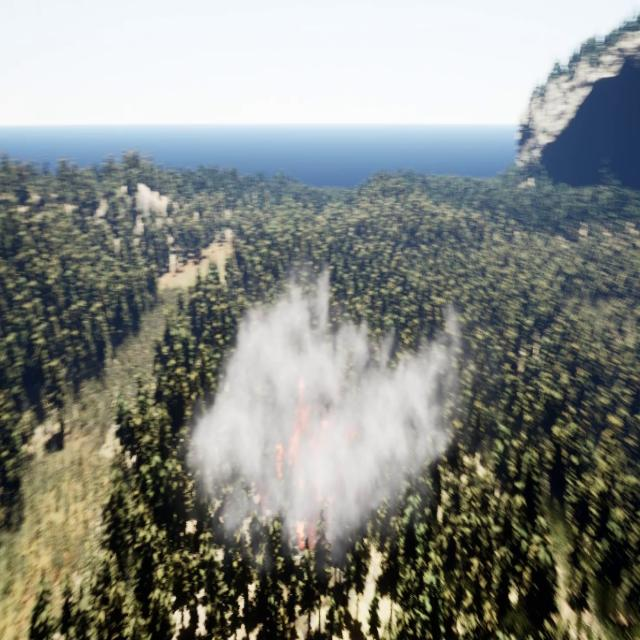fire: (272, 380, 333, 478)
smoke: (186, 257, 469, 558)
